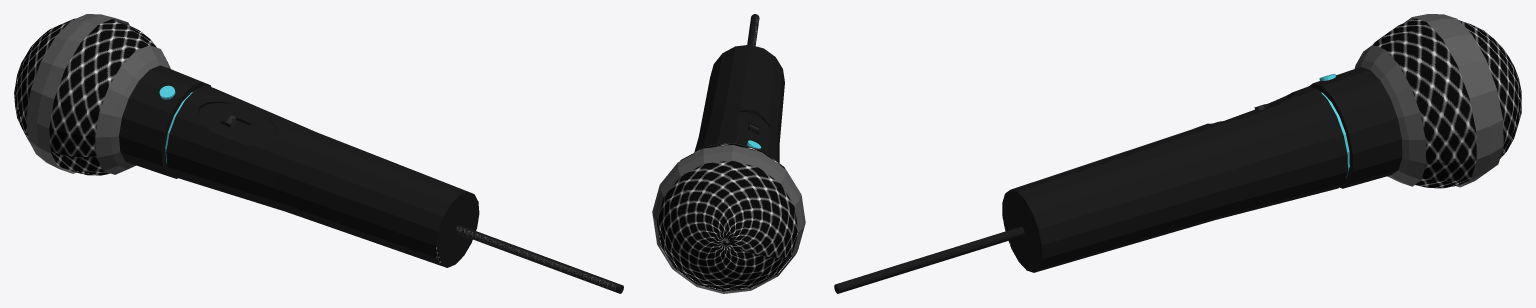
The model's file is Mic.fbx.
3 renders of one model, left to right at view 1: azimuth 30°, elevation 25°; view 2: azimuth 150°, elevation 25°; view 3: azimuth 270°, elevation 25°, orthographic. The views are drawn at different scales.
Parts seen in each view (by area): view 1: Mic; view 2: Mic; view 3: Mic.
Part boxes in pixels (x1,y1,x2,y2): Mic: (14,14,623,293); Mic: (652,14,805,293); Mic: (834,14,1521,293).
Size of the model in its own units: 35.68 by 15.59 by 60.73.
Materials: 3 (1 with a texture image).
